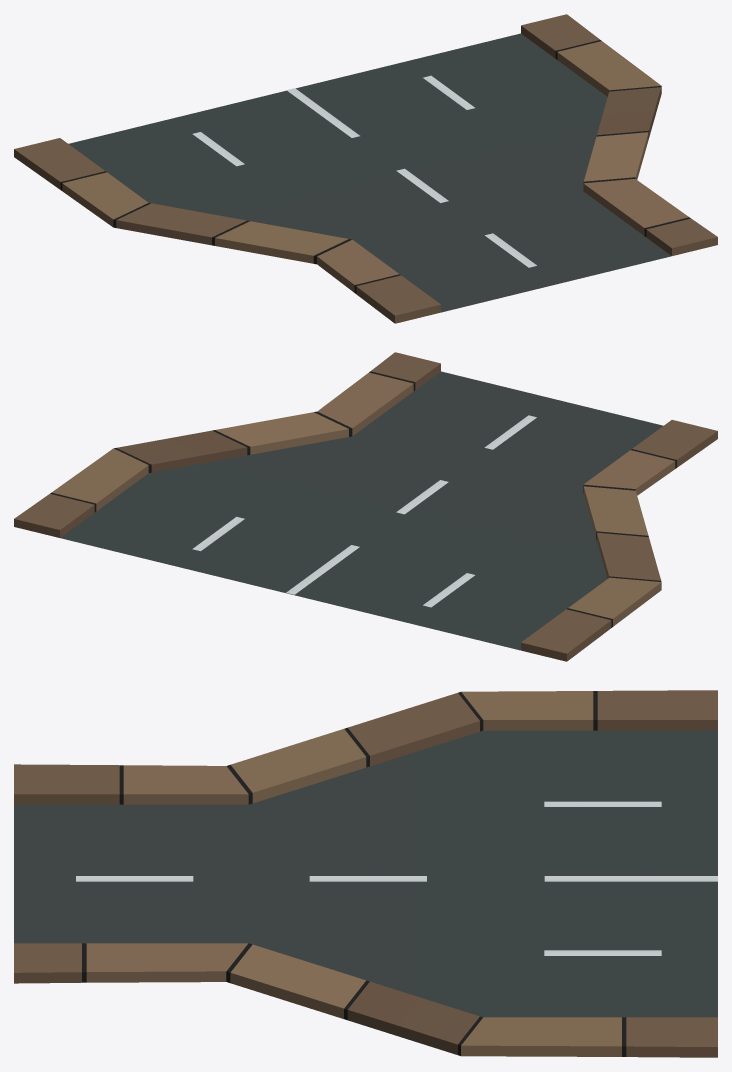
Rendered from Road_1_201.fbx.
3 renders of one model, top to bottom at view 1: azimuth 30°, elevation 25°; view 2: azimuth 150°, elevation 25°; view 3: azimuth 270°, elevation 25°, orthographic. The views are drawn at different scales.
Parts seen in each view (by area): view 1: Road_1_201; view 2: Road_1_201; view 3: Road_1_201.
Part boxes in pixels (box(x1,y1,x2,y2)): Road_1_201: box(14, 14, 717, 323); Road_1_201: box(14, 352, 717, 661); Road_1_201: box(14, 690, 717, 1057).
Bounding box in the file's own units: 2160 × 30 × 1800.
